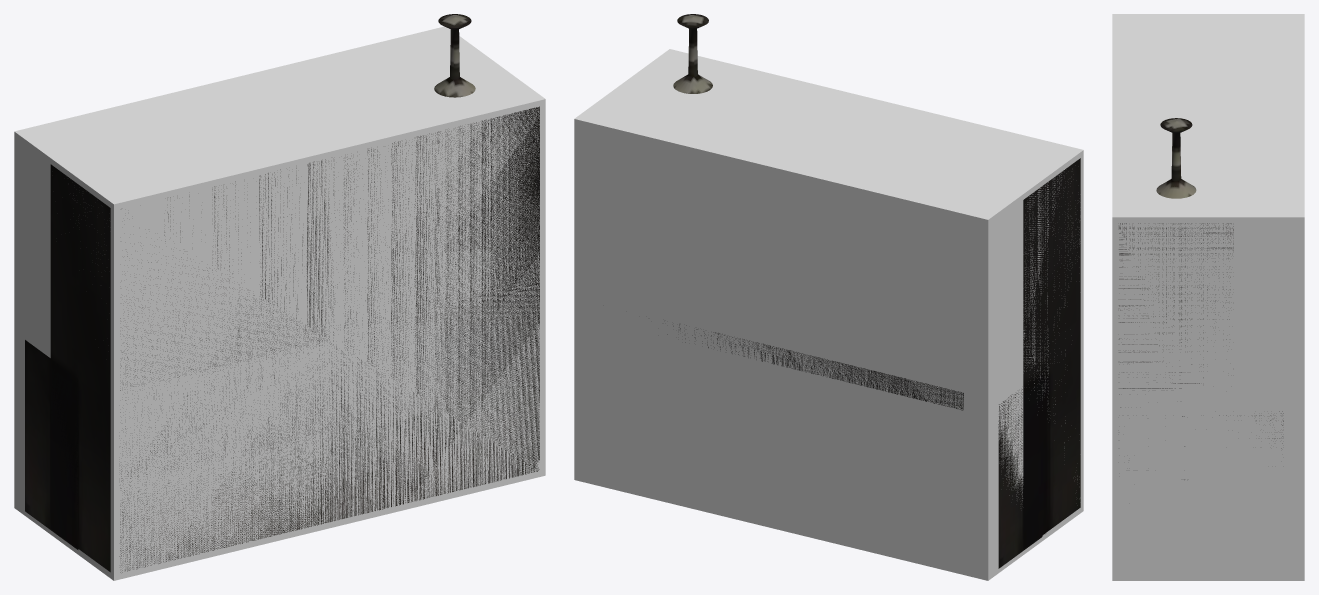
The model's file is Piano.glb.
3 renders of one model, left to right at view 1: azimuth 30°, elevation 25°; view 2: azimuth 150°, elevation 25°; view 3: azimuth 270°, elevation 25°, orthographic. The views are drawn at different scales.
Parts seen in each view (by area): view 1: Col_1__Plastic__000000, Tex__SmoothPlastic__FFFFFF; view 2: Col_1__Plastic__000000, Tex__SmoothPlastic__FFFFFF; view 3: Col_1__Plastic__000000, Tex__SmoothPlastic__FFFFFF.
Part boxes in pixels (x1,y1,x2,y2): Col_1__Plastic__000000: [14, 26, 545, 580]; Tex__SmoothPlastic__FFFFFF: [25, 14, 539, 572]; Col_1__Plastic__000000: [574, 49, 1083, 580]; Tex__SmoothPlastic__FFFFFF: [667, 14, 1080, 568]; Col_1__Plastic__000000: [1112, 14, 1304, 580]; Tex__SmoothPlastic__FFFFFF: [1119, 118, 1283, 479].
Bounding box in the file's own units: 1.68 × 1.67 × 0.672.
Materials: 1 (1 with a texture image).
